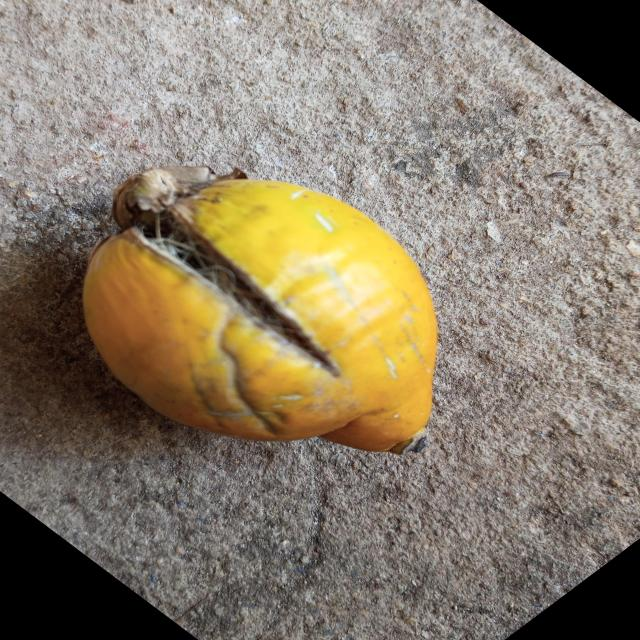damaged: (83, 166, 437, 455)
